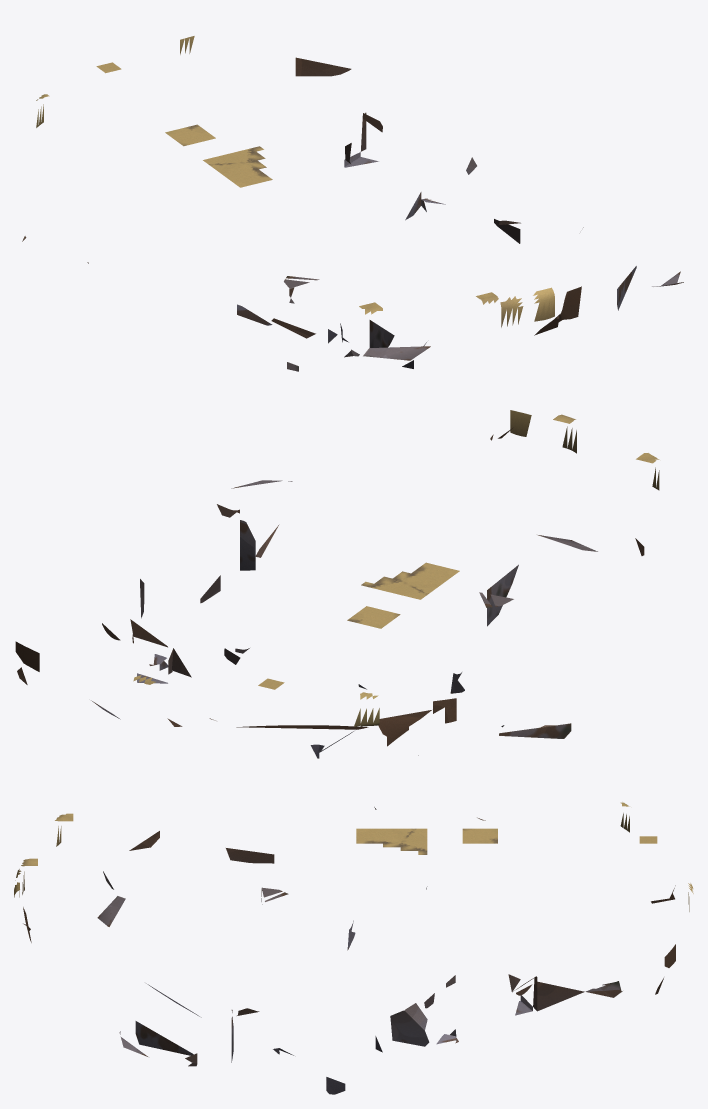
3 views of the same model, one above another, from view 1: azimuth 30°, elevation 25°; view 2: azimuth 150°, elevation 25°; view 3: azimuth 270°, elevation 25° (orthographic). The views are drawn at different scales.
Parts seen in each view (by area): view 1: Grass_-2_0_0, Dirt_1_4_-1_101, Dirt_0_-5_0_001, Columns_-2_-4_-1_010_100_100, Grass_-2_1_0_010; view 2: Grass_-2_0_0, Dirt_-4_3_0_111, Columns_-5_1_-1_110, Columns_2_-2_-1_000_000, Grass_-2_1_0_010, Columns_-2_-3_-1_111; view 3: Grass_-2_0_0, Columns_2_0_-1_010_010, Dirt_1_2_-1_010, Columns_2_-3_-1_000_101, Grass_-2_1_0_010, Dirt_-4_-2_-1_100.
Part boxes in pixels (x1,y1,x2,y2): Grass_-2_0_0: [203, 146, 272, 187]; Dirt_1_4_-1_101: [295, 57, 351, 76]; Dirt_0_-5_0_001: [534, 286, 581, 335]; Columns_-2_-4_-1_010_100_100: [363, 346, 430, 360]; Grass_-2_1_0_010: [165, 124, 215, 146]; Grass_-2_0_0: [361, 562, 459, 599]; Dirt_-4_3_0_111: [378, 710, 431, 746]; Columns_-5_1_-1_110: [499, 723, 571, 738]; Columns_2_-2_-1_000_000: [240, 520, 255, 570]; Grass_-2_1_0_010: [347, 606, 400, 628]; Columns_-2_-3_-1_111: [487, 564, 518, 626]; Grass_-2_0_0: [356, 828, 427, 854]; Columns_2_0_-1_010_010: [390, 1010, 429, 1046]; Dirt_1_2_-1_010: [533, 976, 584, 1011]; Columns_2_-3_-1_000_101: [135, 1021, 193, 1055]; Grass_-2_1_0_010: [462, 828, 497, 843]; Dirt_-4_-2_-1_100: [226, 848, 274, 863].
Bounding box in the file's own units: 558 × 184 × 615.
Materials: 69 (69 with a texture image).
